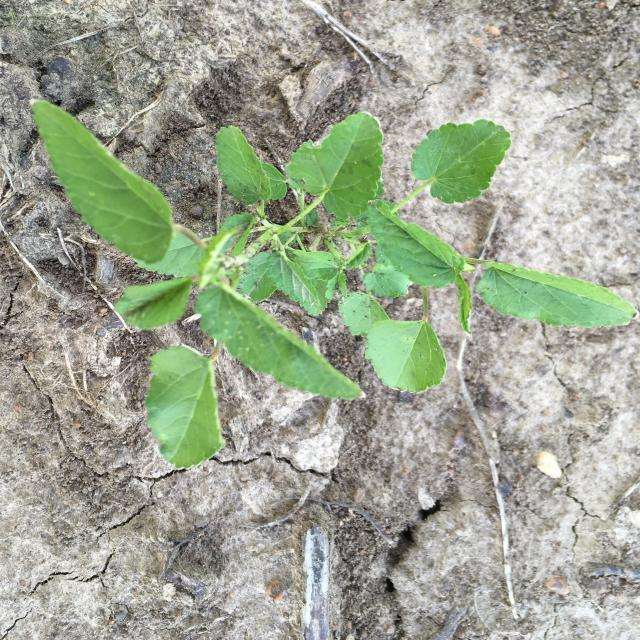PricklySida: (30, 100, 638, 470)
